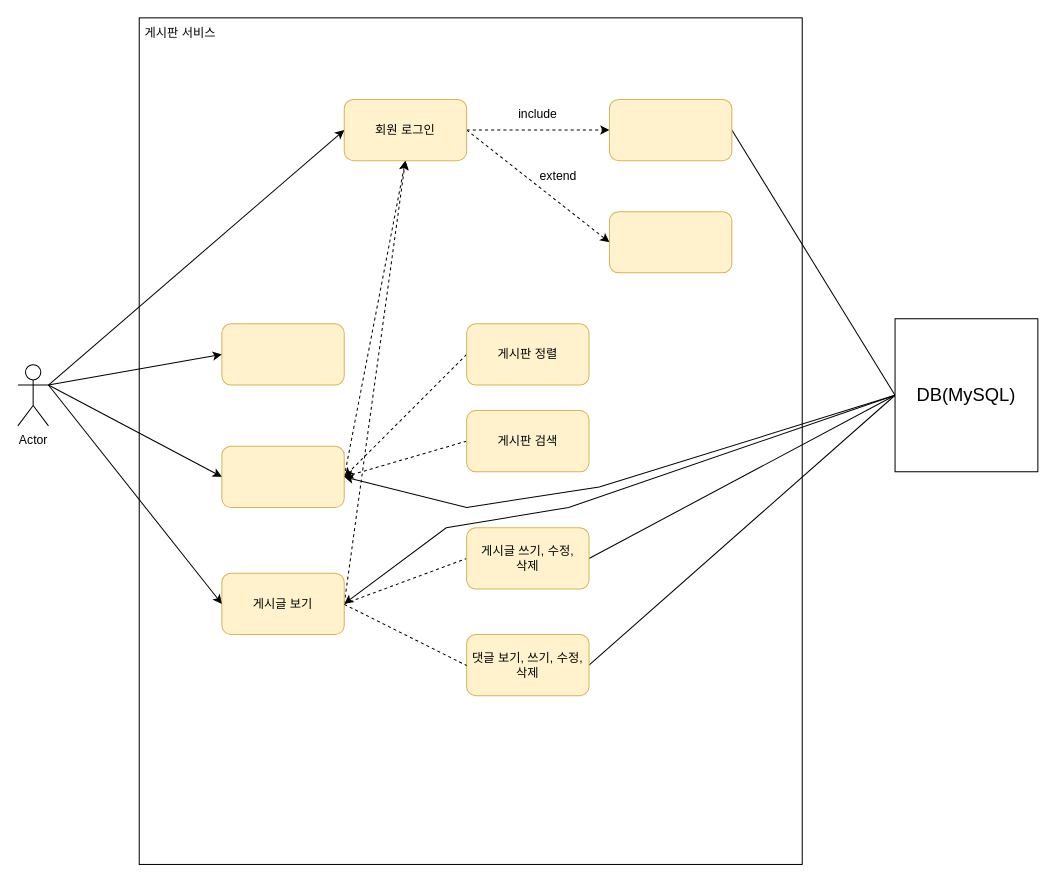
This 1056x882 diagram has some shape labels left out. The centre of each missing label's shape, as x and y in pixels:
게시판 보기: point 282,476
로그인 실패: point 670,242
인증: point 670,129
회원 가입: point 282,354
